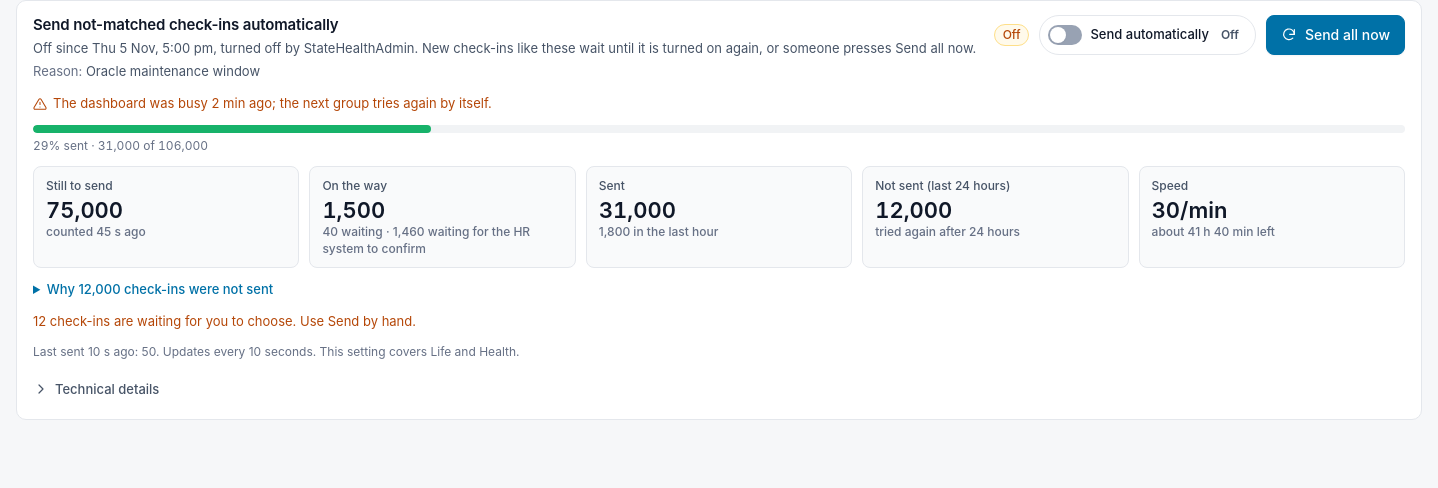
Scenario: automatic release of unknown-identity punches › shows who turned it OFF and why, backpressure and errors, and starts Release all with one click
The image size is (1438, 488).
Expected: the text "turned off by StateHealthAdmin" is shown, x1=33 y1=40 x2=976 y2=56
Expected: the text "Oracle maintenance window" is shown, x1=86 y1=63 x2=260 y2=79
Click the button "Send all now" at (1335, 35), box x1=1266 y1=15 x2=1405 y2=55
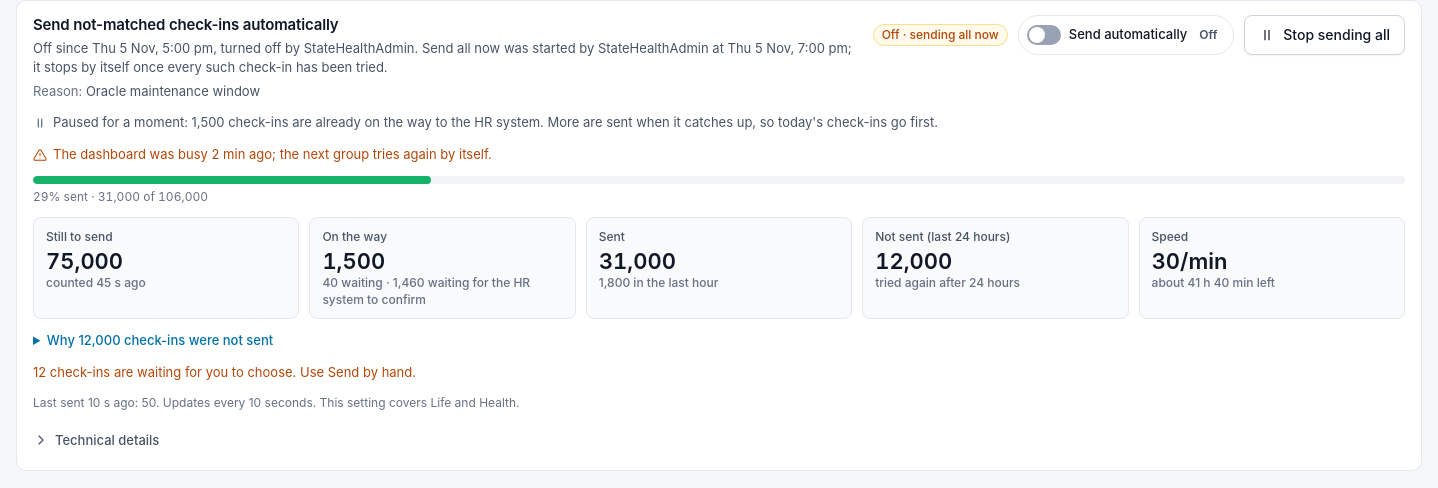
Result: the text "Off · sending all now" is shown at x1=873 y1=24 x2=1008 y2=46
Result: the text "Paused for a moment: 1,500 check-ins are already on the way" is shown at x1=33 y1=114 x2=938 y2=130
